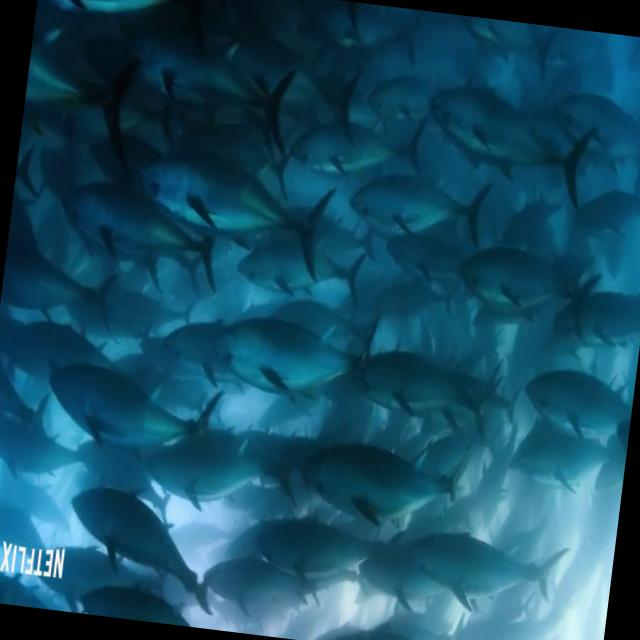fish: (128, 129, 344, 292), (43, 348, 229, 501), (417, 74, 608, 211), (48, 483, 228, 627), (55, 173, 232, 309), (124, 16, 292, 143), (288, 428, 475, 540), (16, 46, 150, 186), (202, 318, 383, 418), (135, 416, 299, 526), (411, 522, 573, 632), (338, 342, 500, 450), (235, 496, 380, 616), (455, 232, 594, 348), (343, 153, 488, 260), (0, 225, 125, 344), (224, 232, 368, 322), (278, 101, 392, 203), (198, 544, 336, 624), (512, 361, 636, 448), (502, 421, 626, 507), (540, 285, 640, 379), (0, 415, 102, 505), (355, 546, 452, 627), (21, 537, 119, 617), (358, 66, 435, 146)
